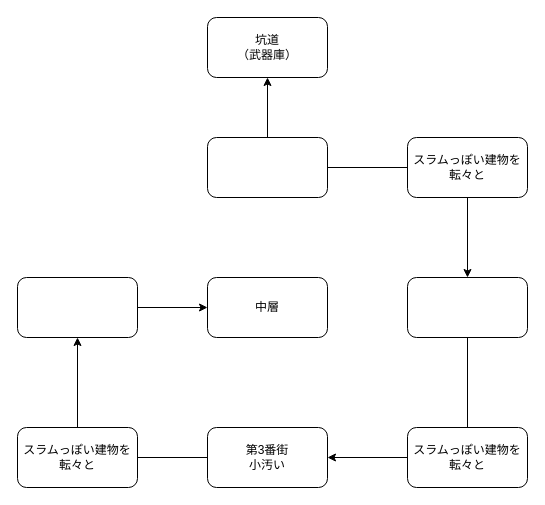
This 545x505 diagram has some shape labels left out. The shapes that lost their labels are listed below. From the top down, each one's centre as x and y in pixels, then its label:
At (x=267, y=167): "第一番街 （いちばんぼろい）".
At (x=77, y=307): "第4番街 （中層との出入口 割と発展してる）".
At (x=467, y=307): "第2番街 （そこそこぼろい）".
